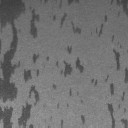red iron: (0, 0, 85, 128), (91, 48, 128, 128), (52, 0, 82, 34), (98, 14, 114, 42), (110, 0, 128, 16), (60, 119, 64, 128)
